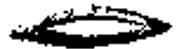Mouth: (7, 3, 174, 48)
